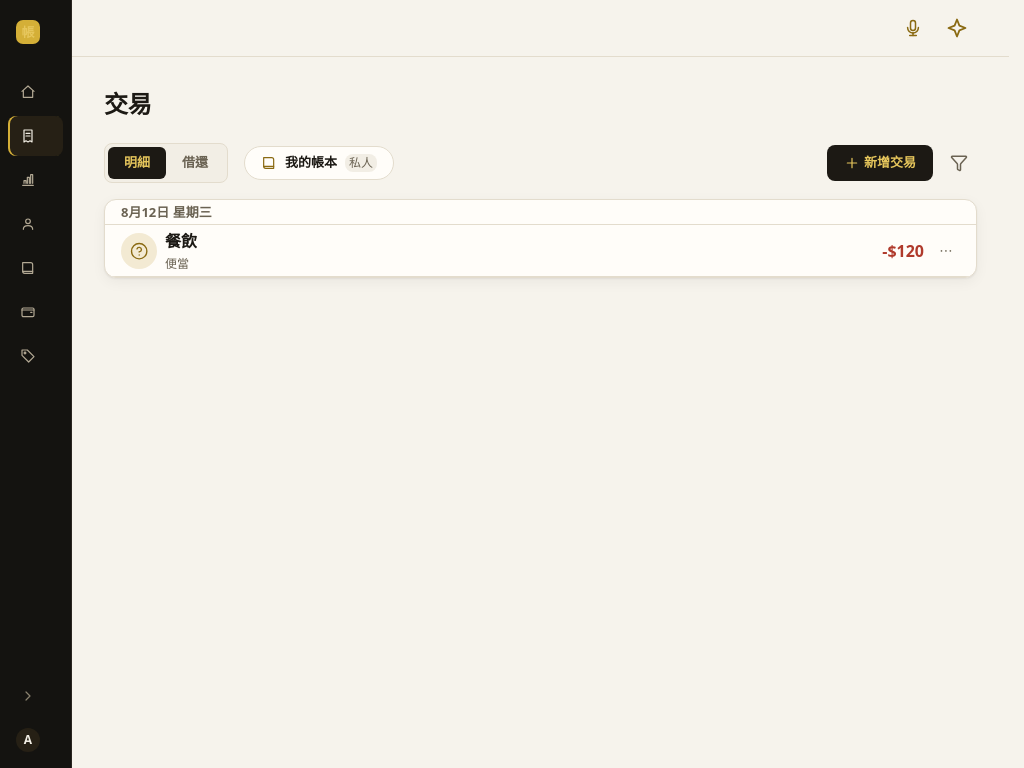
Test case: Transaction workbench in the right panel › replaces the add form with the edit panel when a row is edited
This screenshot has width=1024, height=768.
Step 1. Click the button with aria-label "編輯" → (181, 241), box [165,225,804,276]
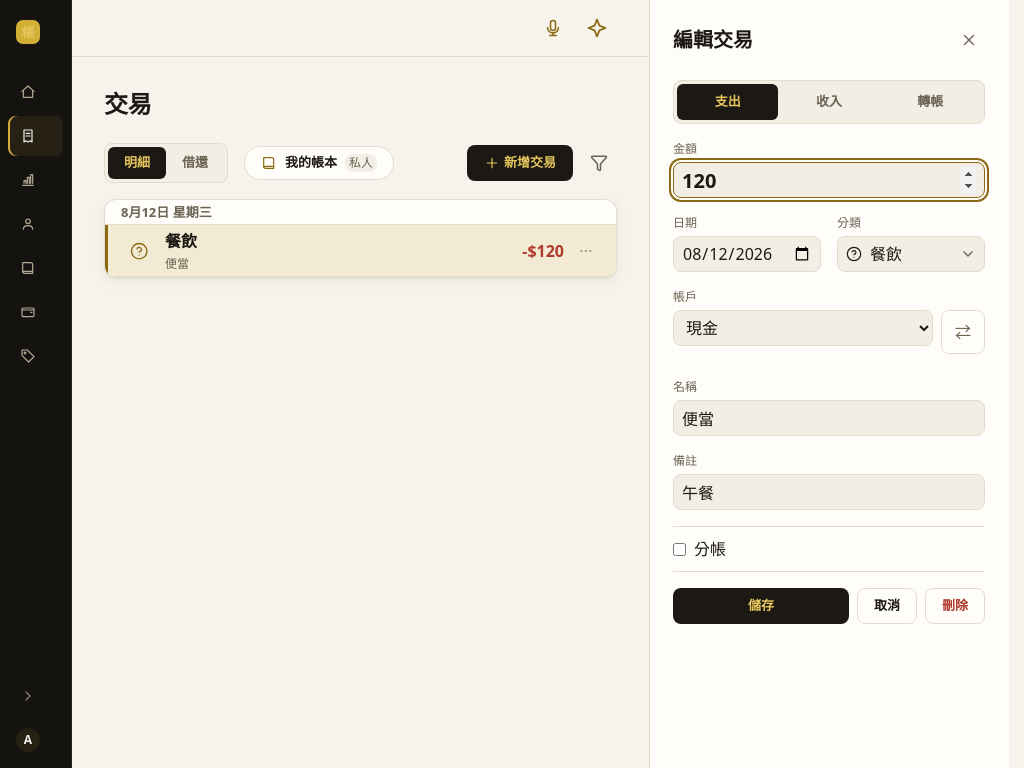
Result: the dialog "編輯交易" is shown at [673,24,985,624]
Result: the number field labelled "金額" holds "120" at [673,162,985,198]
Result: the element "新增一筆交易" is gone
